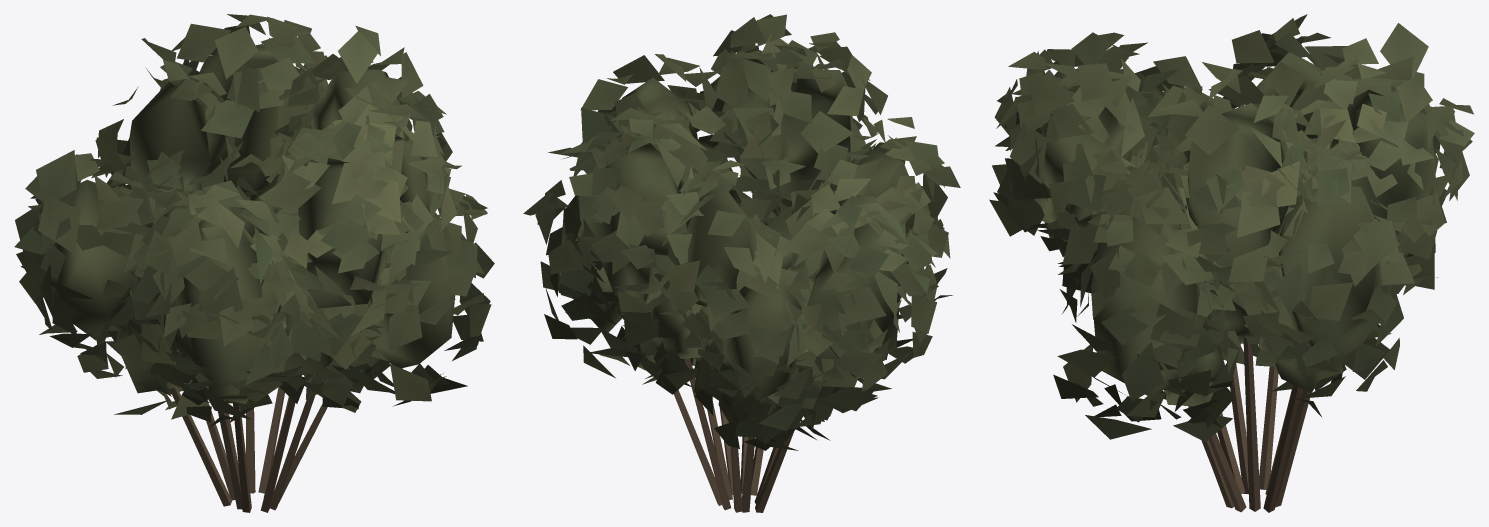
Rendered from jarilla.glb.
3 renders of one model, left to right at view 1: azimuth 30°, elevation 25°; view 2: azimuth 150°, elevation 25°; view 3: azimuth 270°, elevation 25°, orthographic. The views are drawn at different scales.
Parts seen in each view (by area): view 1: JarillaHojas, JarillaCopa, JarillaTallos; view 2: JarillaHojas, JarillaCopa, JarillaTallos; view 3: JarillaHojas, JarillaCopa, JarillaTallos.
Boxes of the visible parts, x1,y1,x2,y2 form: JarillaHojas: (14, 14, 494, 427); JarillaCopa: (51, 45, 455, 403); JarillaTallos: (169, 196, 327, 512); JarillaHojas: (523, 14, 960, 450); JarillaCopa: (559, 49, 915, 427); JarillaTallos: (674, 191, 794, 512); JarillaHojas: (989, 14, 1474, 441); JarillaCopa: (1034, 52, 1435, 406); JarillaTallos: (1188, 338, 1310, 512).
Size of the model in its own units: 1.57 by 1.67 by 1.52.
